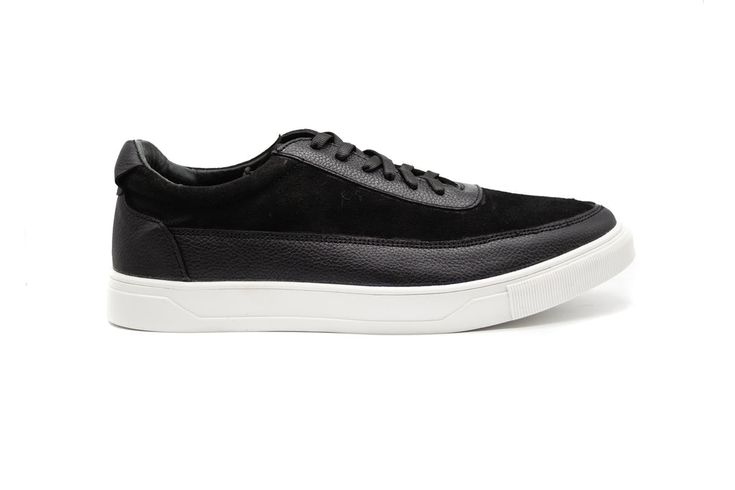gamuza: (114, 156, 597, 240)
